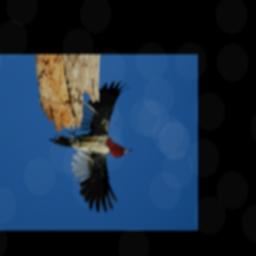Woodpecker: (48, 80, 132, 213)
